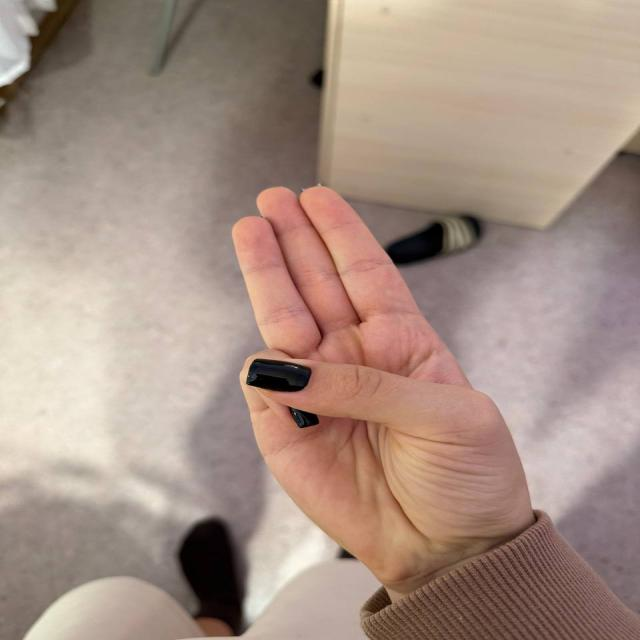sh: (164, 175, 558, 515)
